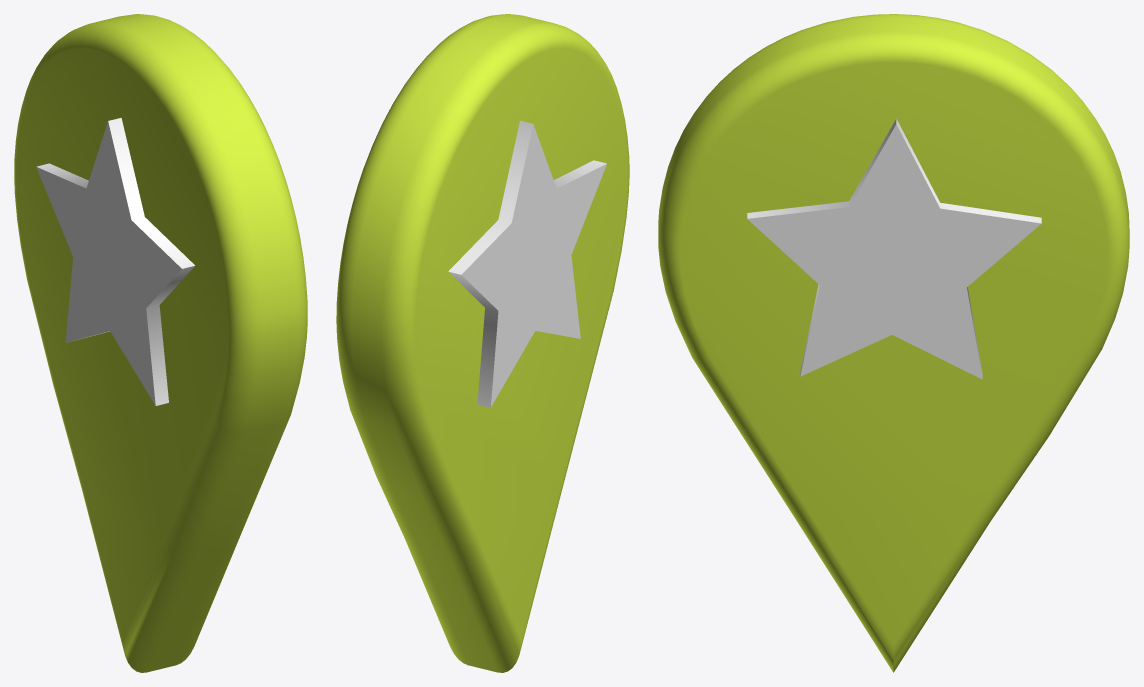
Rendered from anchor.gltf.
The picture shows the model from 3 angles, left to right: view 1: azimuth 30°, elevation 25°; view 2: azimuth 150°, elevation 25°; view 3: azimuth 270°, elevation 25°; orthographic projection.
Parts seen in each view (by area): view 1: 黄底, 定位; view 2: 黄底, 定位; view 3: 黄底, 定位.
Boxes of the visible parts, left/top/right/bottom form: 黄底: left=14, top=14, right=307, bottom=672; 定位: left=36, top=117, right=195, bottom=405; 黄底: left=336, top=14, right=629, bottom=672; 定位: left=448, top=120, right=606, bottom=407; 黄底: left=658, top=14, right=1129, bottom=672; 定位: left=747, top=118, right=1041, bottom=379.
Bounding box in the file's own units: 0.1124 × 0.6695 × 0.447.
